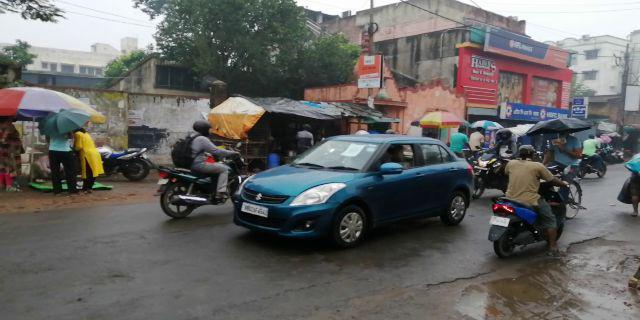Car: (237, 134, 475, 247)
Motorbike: (484, 144, 573, 254), (143, 125, 245, 220)
